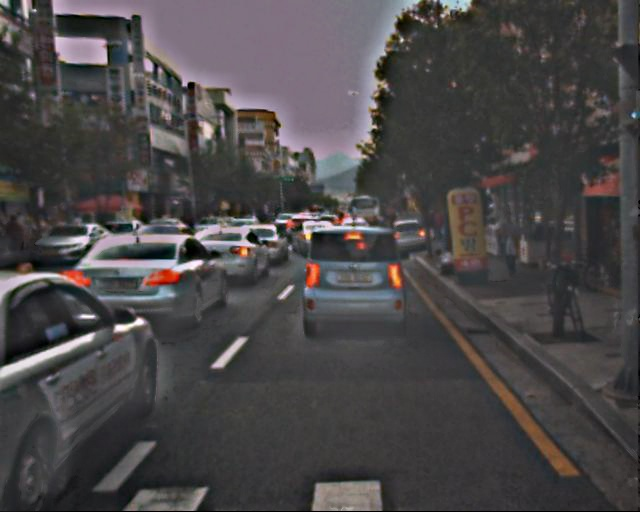person: (496, 208, 526, 280)
